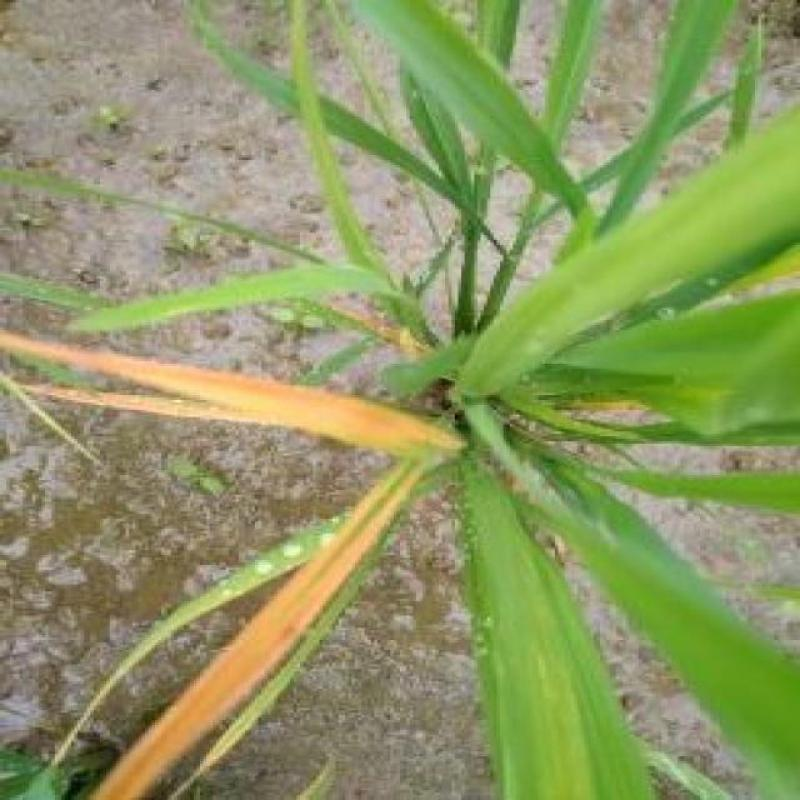Rice Tungro: (10, 335, 412, 451), (115, 594, 300, 792)
